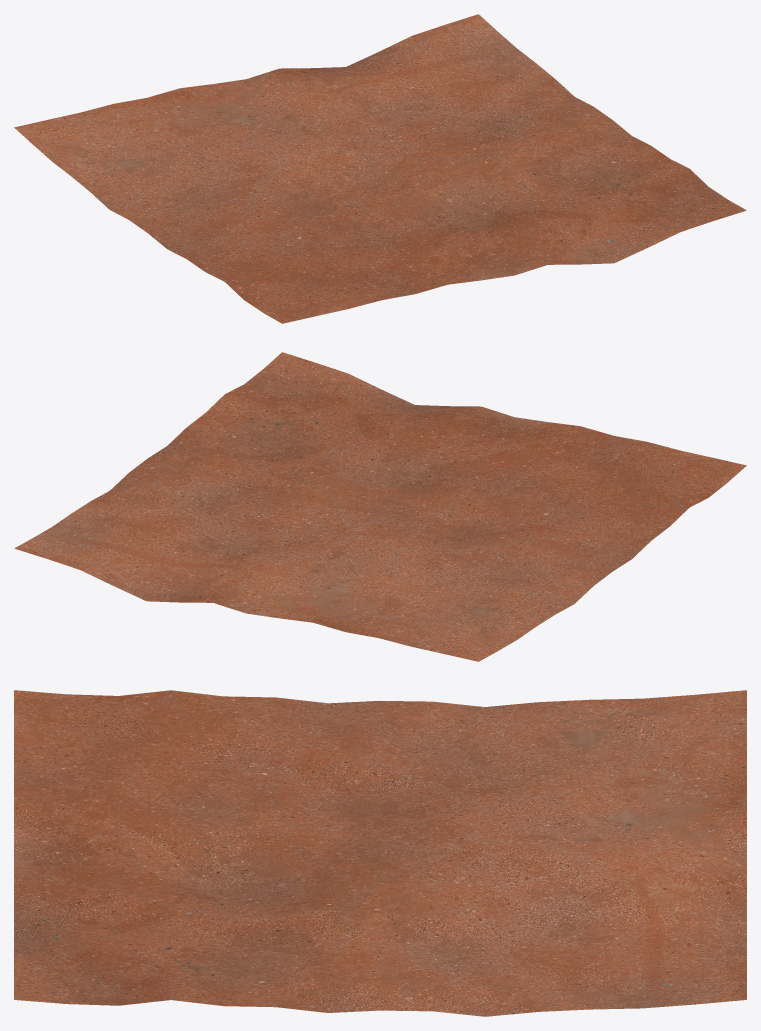
Rendered from Ground_flat_01_M01_LOD1.fbx.
3 renders of one model, top to bottom at view 1: azimuth 30°, elevation 25°; view 2: azimuth 150°, elevation 25°; view 3: azimuth 270°, elevation 25°, orthographic. The views are drawn at different scales.
Parts seen in each view (by area): view 1: Ground_flat_01_M01_LOD1; view 2: Ground_flat_01_M01_LOD1; view 3: Ground_flat_01_M01_LOD1.
Boxes of the visible parts, x1=… form: Ground_flat_01_M01_LOD1: x1=14, y1=14, x2=746, y2=323; Ground_flat_01_M01_LOD1: x1=14, y1=352, x2=746, y2=661; Ground_flat_01_M01_LOD1: x1=14, y1=690, x2=746, y2=1016.
Bounding box in the file's own units: 2000 × 87.84 × 2000.
